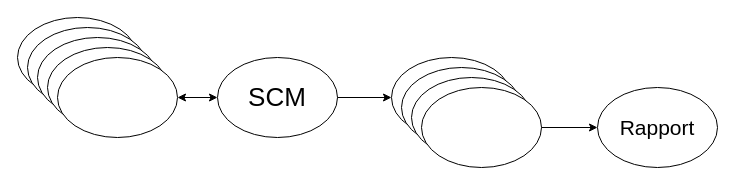
Some shapes in this 735 by 185 pixel diagram are drawn without their labels. Each missing label, with the centre of its shape:
"Bygg/test /integration-servrar" belongs at pixel 481 127.
"Utvecklare" belongs at pixel 117 97.
